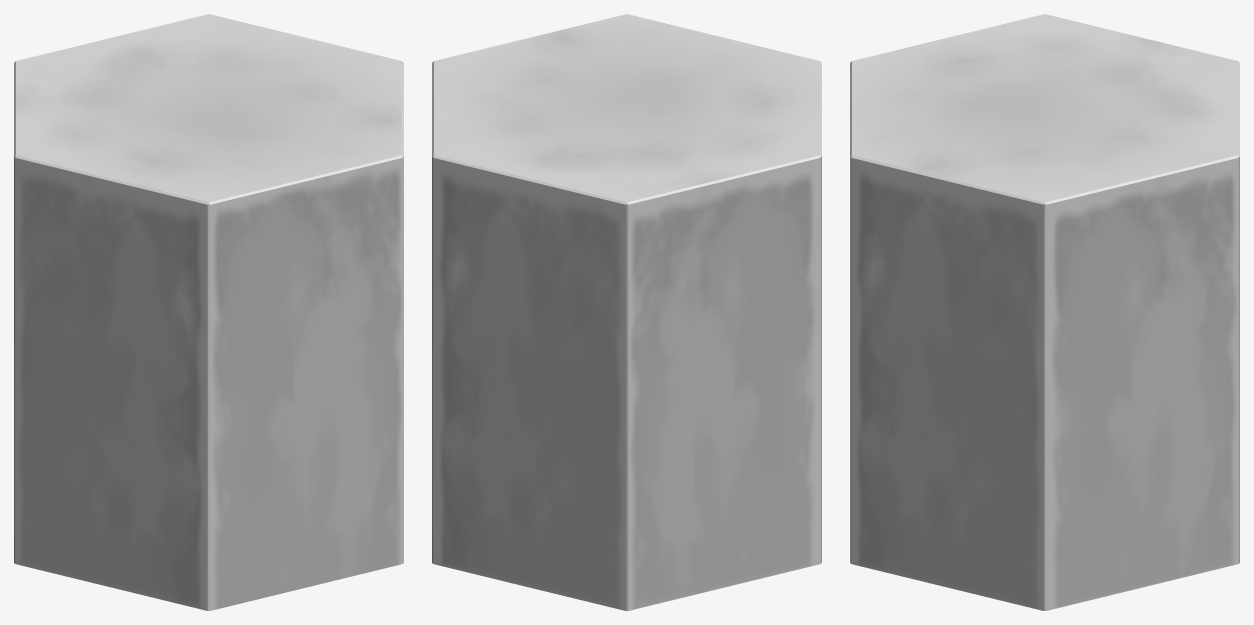
The model's file is StonePillar.fbx.
The picture shows the model from 3 angles, left to right: view 1: azimuth 30°, elevation 25°; view 2: azimuth 150°, elevation 25°; view 3: azimuth 270°, elevation 25°; orthographic projection.
Parts seen in each view (by area): view 1: pCylinder1; view 2: pCylinder1; view 3: pCylinder1.
Part boxes in pixels (x1,y1,x2,y2): pCylinder1: (14, 14, 403, 610); pCylinder1: (432, 14, 821, 610); pCylinder1: (850, 14, 1239, 610).
Bounding box in the file's own units: 1.99 × 2 × 1.73.
